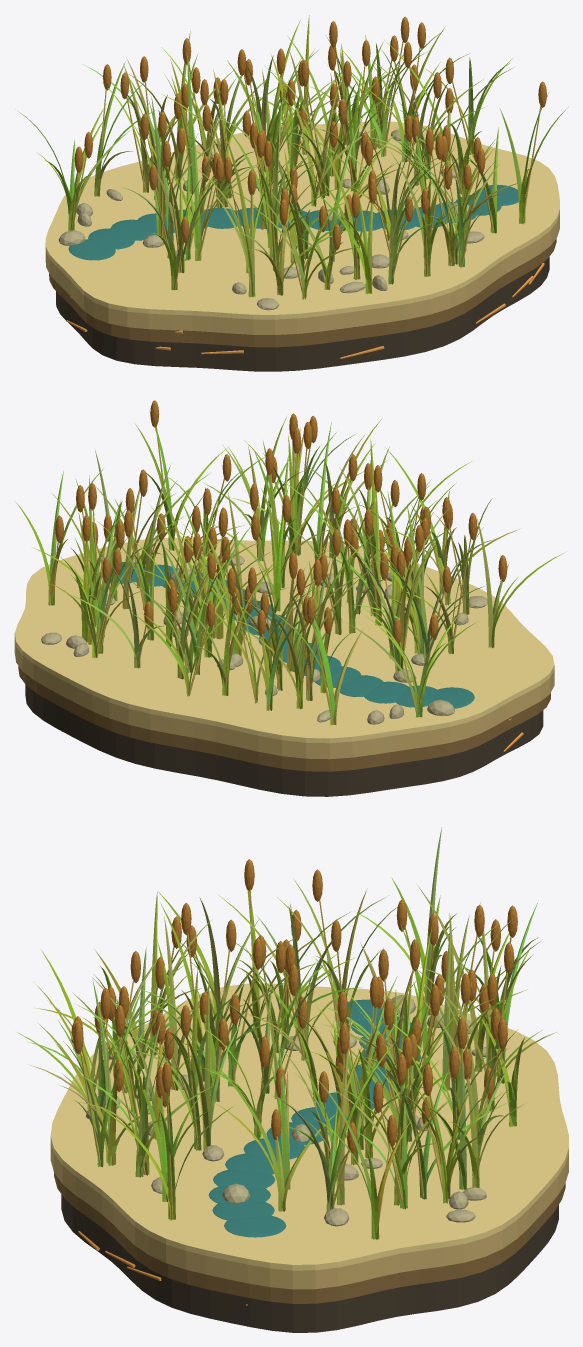
The model's file is saltmarsh.glb.
The picture shows the model from 3 angles, top to bottom: view 1: azimuth 30°, elevation 25°; view 2: azimuth 150°, elevation 25°; view 3: azimuth 270°, elevation 25°; orthographic projection. The views are drawn at different scales.
Visible parts, largest first — view 1: saltmarsh habitat; view 2: saltmarsh habitat; view 3: saltmarsh habitat.
Part boxes in pixels (x1=…): saltmarsh habitat: x1=15, y1=15, x2=568, y2=371; saltmarsh habitat: x1=14, y1=400, x2=565, y2=796; saltmarsh habitat: x1=17, y1=827, x2=568, y2=1332.
Size of the model in its own units: 1.8 by 0.7329 by 1.5.
Materials: 1 (1 with a texture image).
